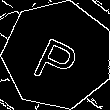P_NE: (30, 25, 86, 86)
